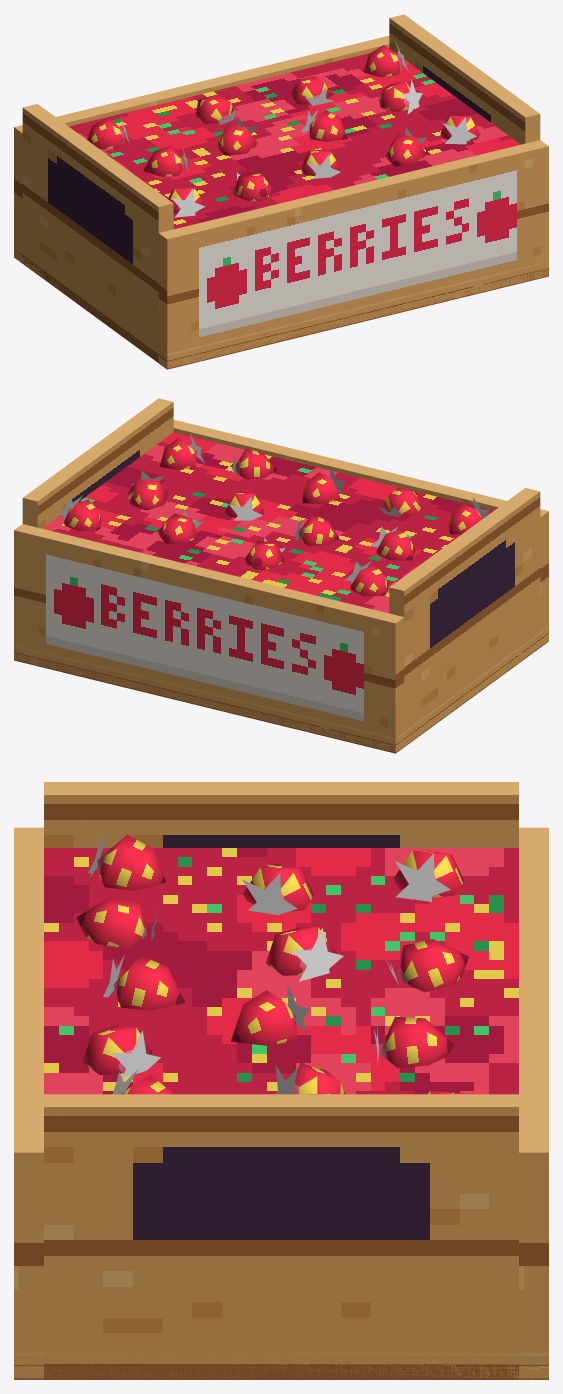
File: Strawberry Basket.fbx
3 views of the same model, one above another, from view 1: azimuth 30°, elevation 25°; view 2: azimuth 150°, elevation 25°; view 3: azimuth 270°, elevation 25° (orthographic). The views are drawn at different scales.
Parts seen in each view (by area): view 1: Strawberry Basket side -1, Strawberry Basket berry bed, Strawberry Basket end -1, Strawberry Basket floor, Strawberry Basket end 1, Strawberry Basket side 1, Strawberry Basket berry 3.001, Strawberry Basket berry 6.001, Strawberry Basket berry 5.001, Strawberry Basket berry 12.001, Strawberry Basket berry 7.001, Strawberry Basket berry 1.001 (+8 smaller); view 2: Strawberry Basket side 1, Strawberry Basket berry bed, Strawberry Basket end -1, Strawberry Basket floor, Strawberry Basket end 1, Strawberry Basket side -1, Strawberry Basket berry 8.001, Strawberry Basket berry 5.001, Strawberry Basket berry 11.001, Strawberry Basket berry 3.001, Strawberry Basket berry 2.001, Strawberry Basket berry 6.001 (+7 smaller); view 3: Strawberry Basket end 1, Strawberry Basket berry bed, Strawberry Basket end -1, Strawberry Basket side -1, Strawberry Basket side 1, Strawberry Basket floor, Strawberry Basket berry 11.001, Strawberry Basket berry 10.001, Strawberry Basket berry 1.001, Strawberry Basket berry 0.001, Strawberry Basket berry 2.001, Strawberry Basket berry 7.001 (+9 smaller).
Part boxes in pixels (left/top/right/bottom): Strawberry Basket side -1: left=158, top=140, right=548, bottom=369; Strawberry Basket berry bed: left=69, top=48, right=520, bottom=229; Strawberry Basket end -1: left=22, top=104, right=173, bottom=362; Strawberry Basket floor: left=14, top=244, right=548, bottom=369; Strawberry Basket end 1: left=389, top=14, right=540, bottom=144; Strawberry Basket side 1: left=14, top=35, right=389, bottom=257; Strawberry Basket berry 3.001: left=385, top=134, right=425, bottom=166; Strawberry Basket berry 6.001: left=216, top=124, right=257, bottom=155; Strawberry Basket berry 5.001: left=143, top=145, right=185, bottom=176; Strawberry Basket berry 12.001: left=363, top=45, right=401, bottom=77; Strawberry Basket berry 7.001: left=309, top=110, right=347, bottom=141; Strawberry Basket berry 1.001: left=233, top=172, right=272, bottom=201; Strawberry Basket side 1: left=14, top=524, right=404, bottom=752; Strawberry Basket berry bed: left=42, top=432, right=493, bottom=613; Strawberry Basket end -1: left=389, top=488, right=540, bottom=731; Strawberry Basket floor: left=14, top=626, right=548, bottom=753; Strawberry Basket end 1: left=22, top=398, right=173, bottom=528; Strawberry Basket side -1: left=173, top=419, right=548, bottom=642; Strawberry Basket berry 8.001: left=127, top=479, right=167, bottom=509; Strawberry Basket berry 5.001: left=376, top=529, right=415, bottom=560; Strawberry Basket berry 11.001: left=158, top=513, right=198, bottom=543; Strawberry Basket berry 3.001: left=235, top=449, right=276, bottom=479; Strawberry Basket berry 2.001: left=302, top=472, right=339, bottom=504; Strawberry Basket berry 6.001: left=299, top=514, right=339, bottom=546; Strawberry Basket end 1: left=44, top=1094, right=518, bottom=1379; Strawberry Basket berry bed: left=44, top=848, right=518, bottom=1094; Strawberry Basket end -1: left=44, top=782, right=518, bottom=847; Strawberry Basket side -1: left=14, top=827, right=43, bottom=1379; Strawberry Basket side 1: left=519, top=827, right=548, bottom=1379; Strawberry Basket floor: left=14, top=1352, right=548, bottom=1379; Strawberry Basket berry 11.001: left=379, top=1016, right=454, bottom=1067; Strawberry Basket berry 10.001: left=399, top=939, right=468, bottom=992; Strawberry Basket berry 1.001: left=76, top=897, right=147, bottom=948; Strawberry Basket berry 0.001: left=97, top=834, right=165, bottom=890; Strawberry Basket berry 2.001: left=113, top=955, right=185, bottom=1010; Strawberry Basket berry 7.001: left=231, top=990, right=297, bottom=1045.
Bounding box in the file's own units: 0.46 × 0.18 × 0.32.
4 materials, 3 textured.
